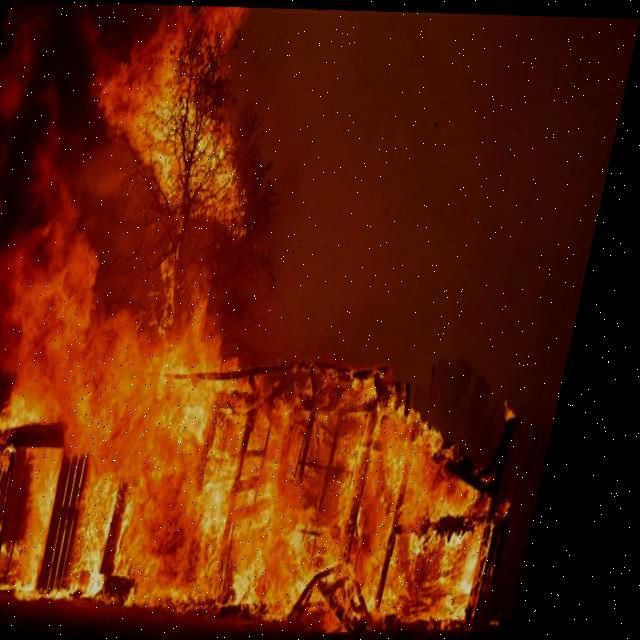Fire: (0, 9, 609, 622)
